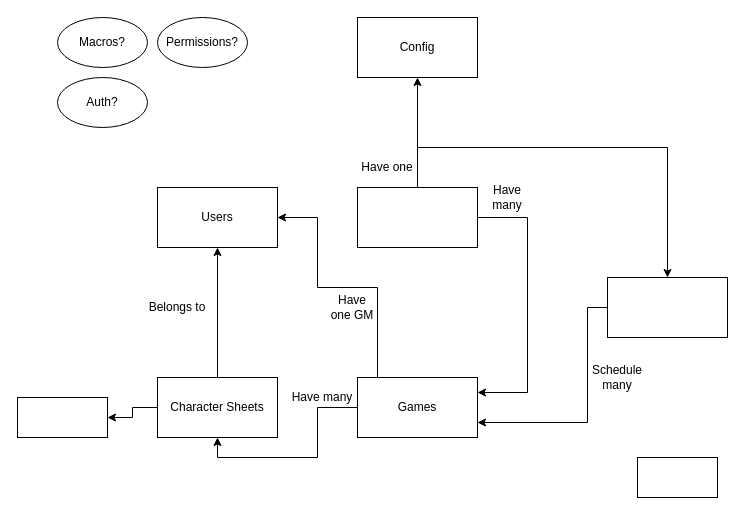
Image size: 745x515. Some labels were removed from this diagram. Here are the shapes that lost their labels. From the top down, the centre of each, then its label:
At (x=417, y=217): "Servers".
At (x=667, y=307): "Calendar".
At (x=62, y=417): "Dice Roller".
At (x=677, y=477): "Music Player".
